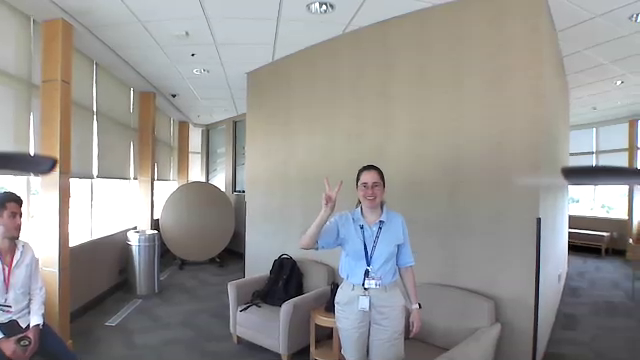peace: (315, 172, 345, 215)
